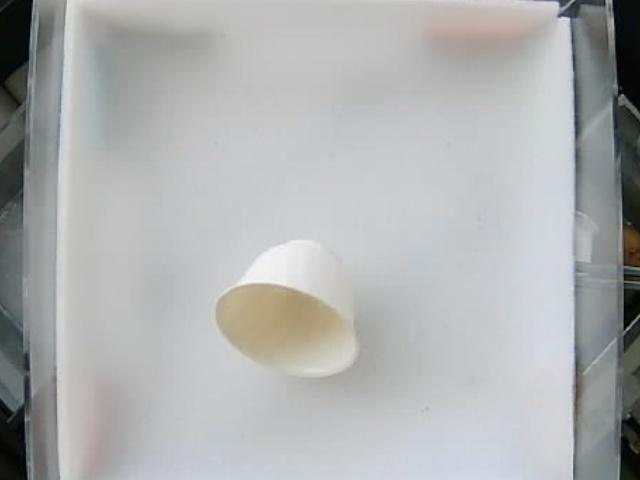Cup: (217, 239, 357, 378)
